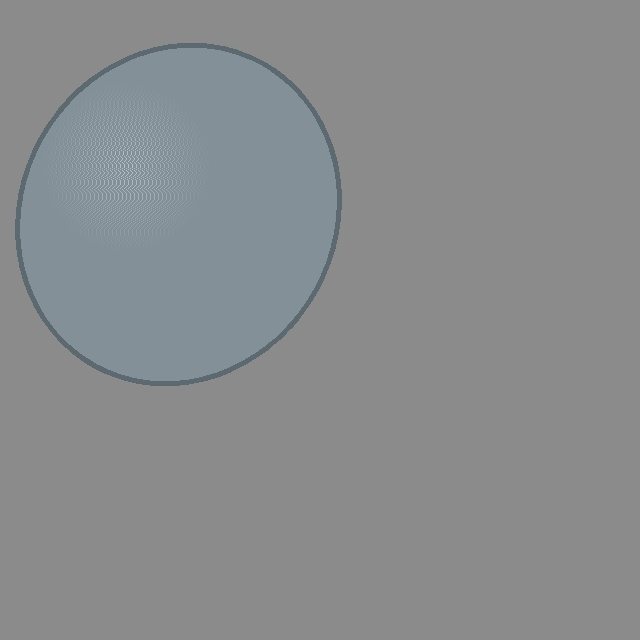lens: (17, 45, 339, 383)
